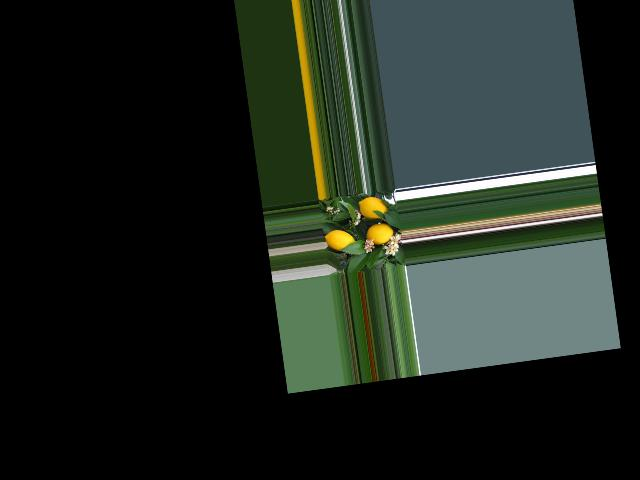lemon: (325, 226, 359, 257)
